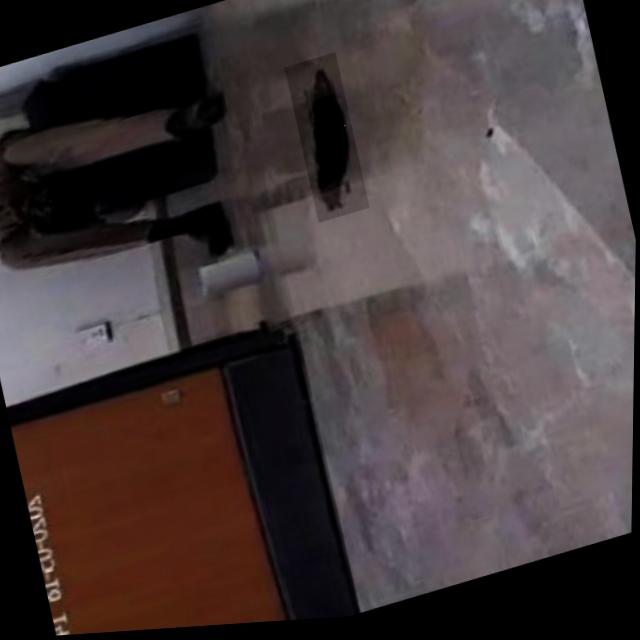spillage: (310, 64, 353, 225)
